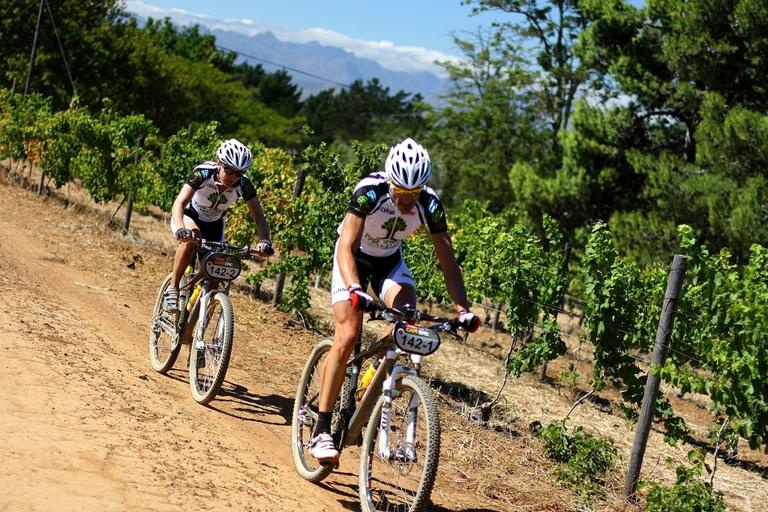non-vehicle: (290, 284, 467, 511), (148, 231, 271, 404)
